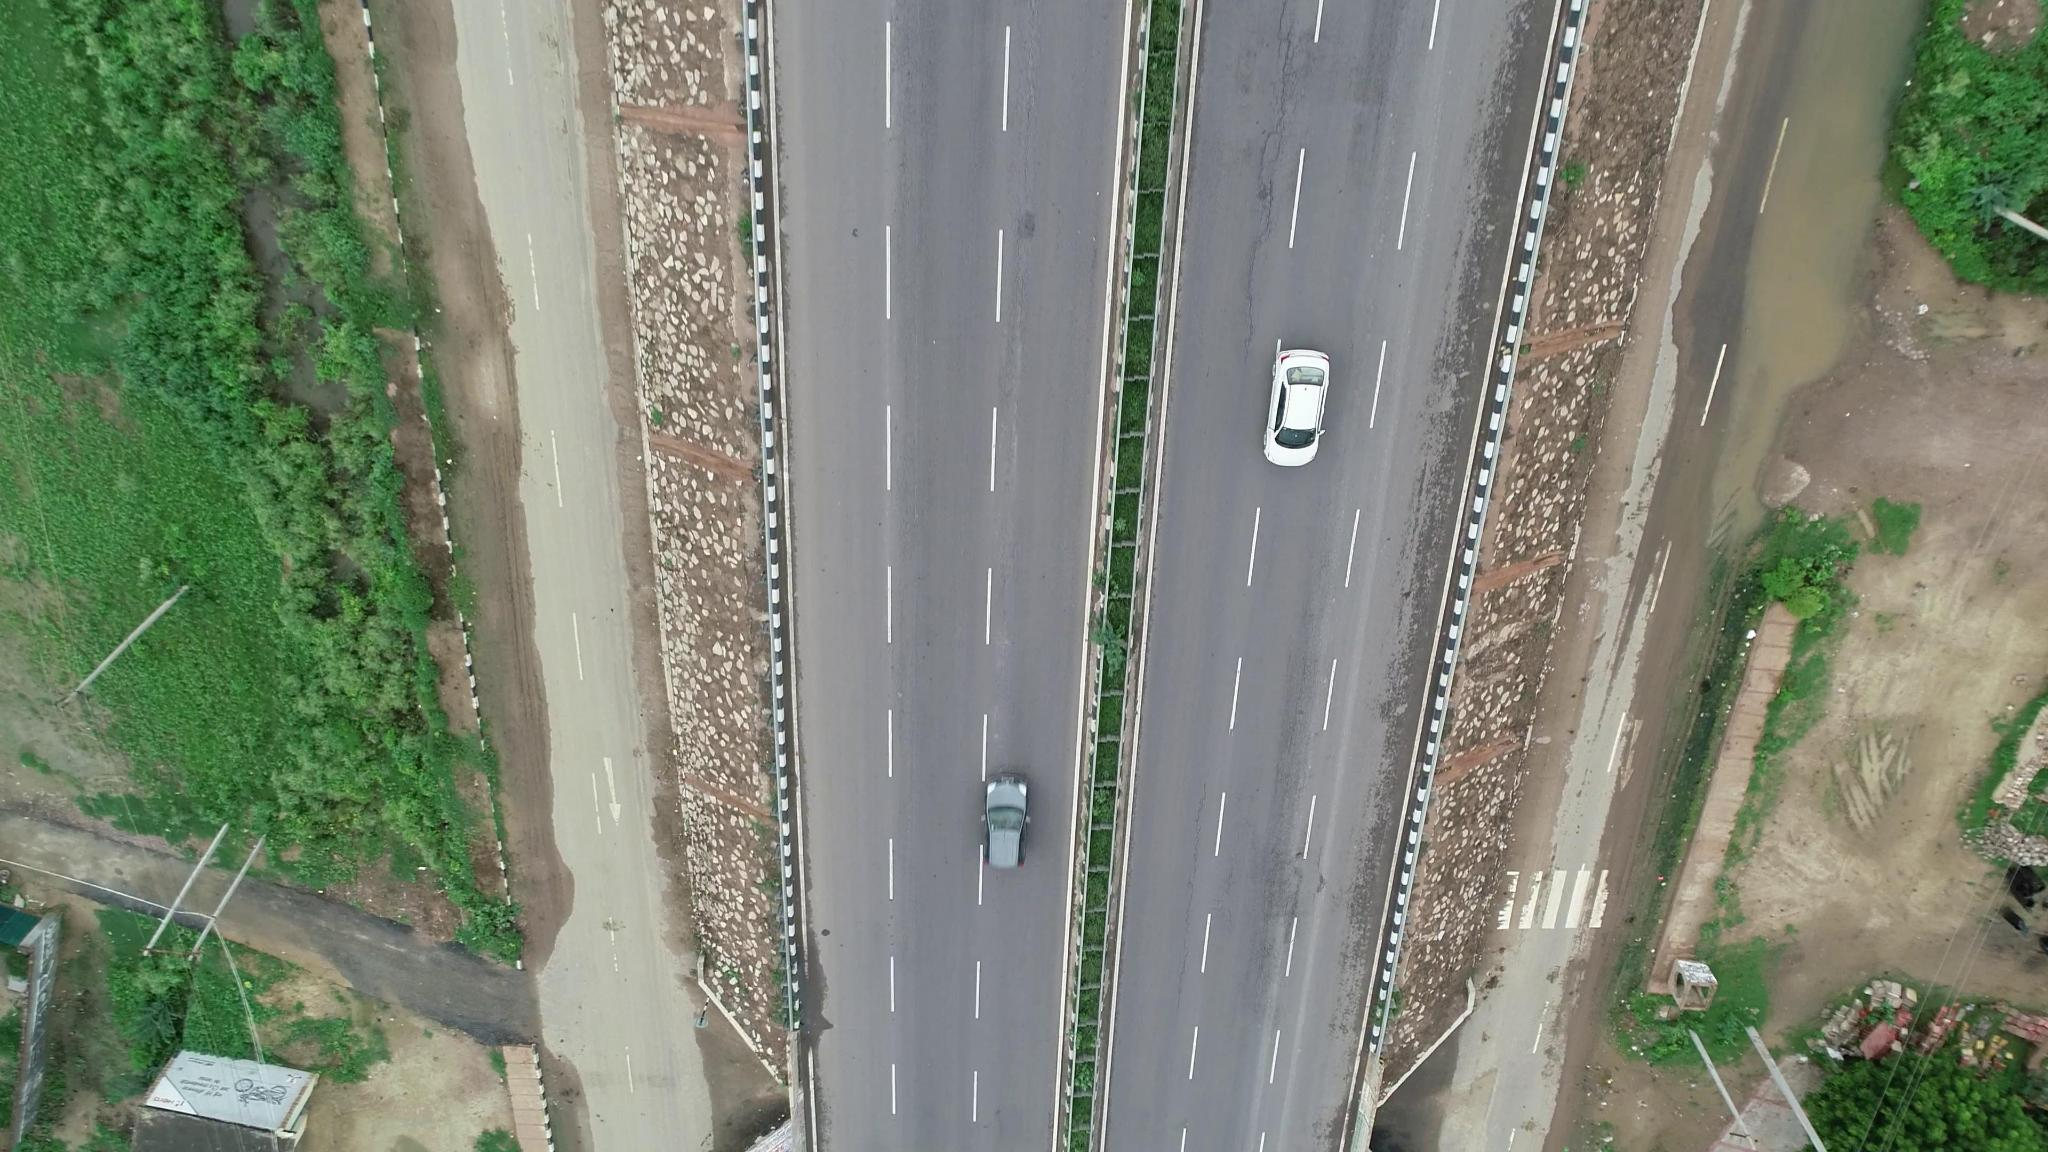Cracks: (1225, 14, 1312, 369), (1170, 786, 1215, 1018)
